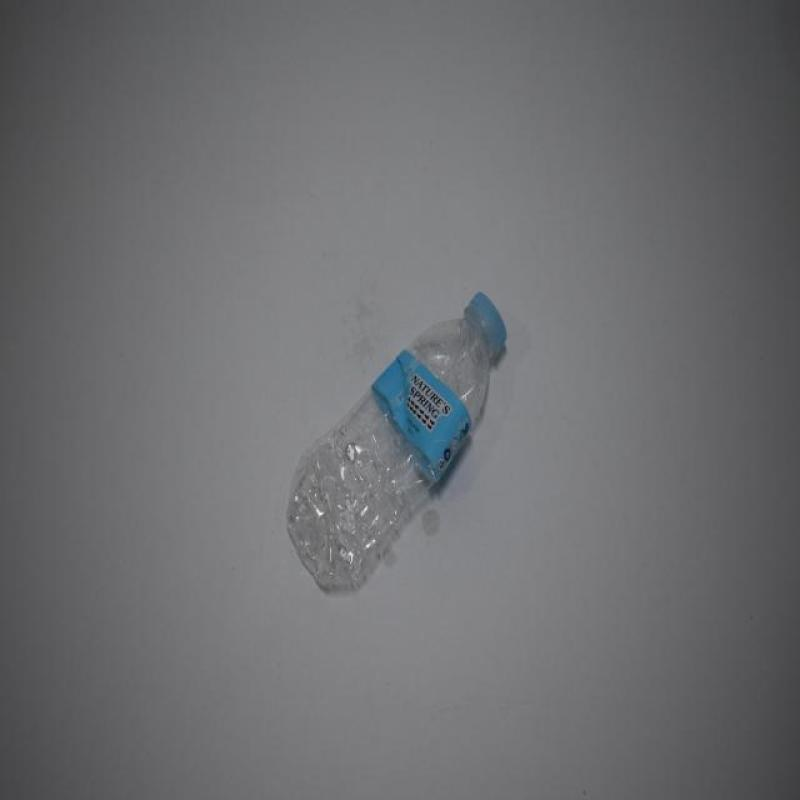botella: (290, 288, 510, 592)
